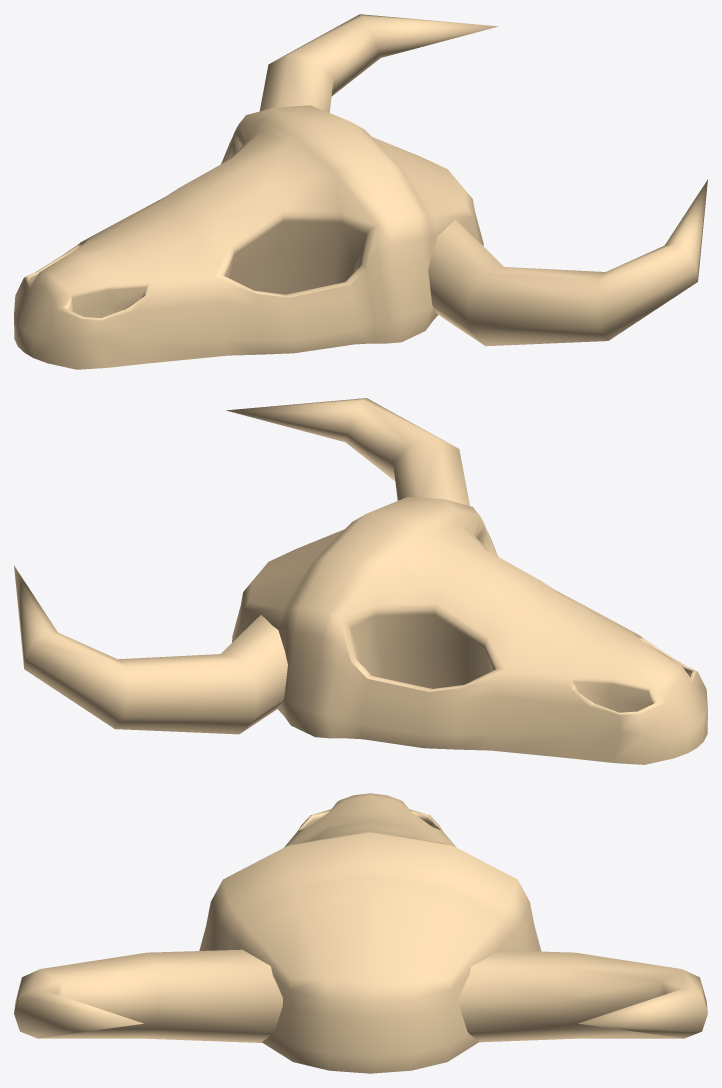
The model's file is Fossil_Buffalo_Head.fbx.
The picture shows the model from 3 angles, top to bottom: view 1: azimuth 30°, elevation 25°; view 2: azimuth 150°, elevation 25°; view 3: azimuth 270°, elevation 25°; orthographic projection. The views are drawn at different scales.
Visible parts, largest first — view 1: Fossil_Buffalo_Head; view 2: Fossil_Buffalo_Head; view 3: Fossil_Buffalo_Head.
Boxes of the visible parts, x1=… form: Fossil_Buffalo_Head: x1=14, y1=14, x2=707, y2=369; Fossil_Buffalo_Head: x1=14, y1=398, x2=707, y2=764; Fossil_Buffalo_Head: x1=14, y1=793, x2=707, y2=1073.
Bounding box in the file's own units: 1289 × 341 × 1298.
